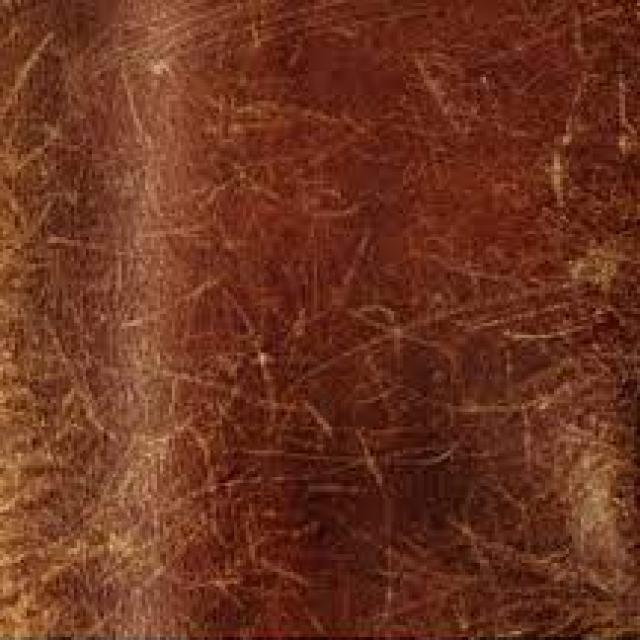Rotten surface: (17, 356, 237, 561), (498, 376, 630, 580)
